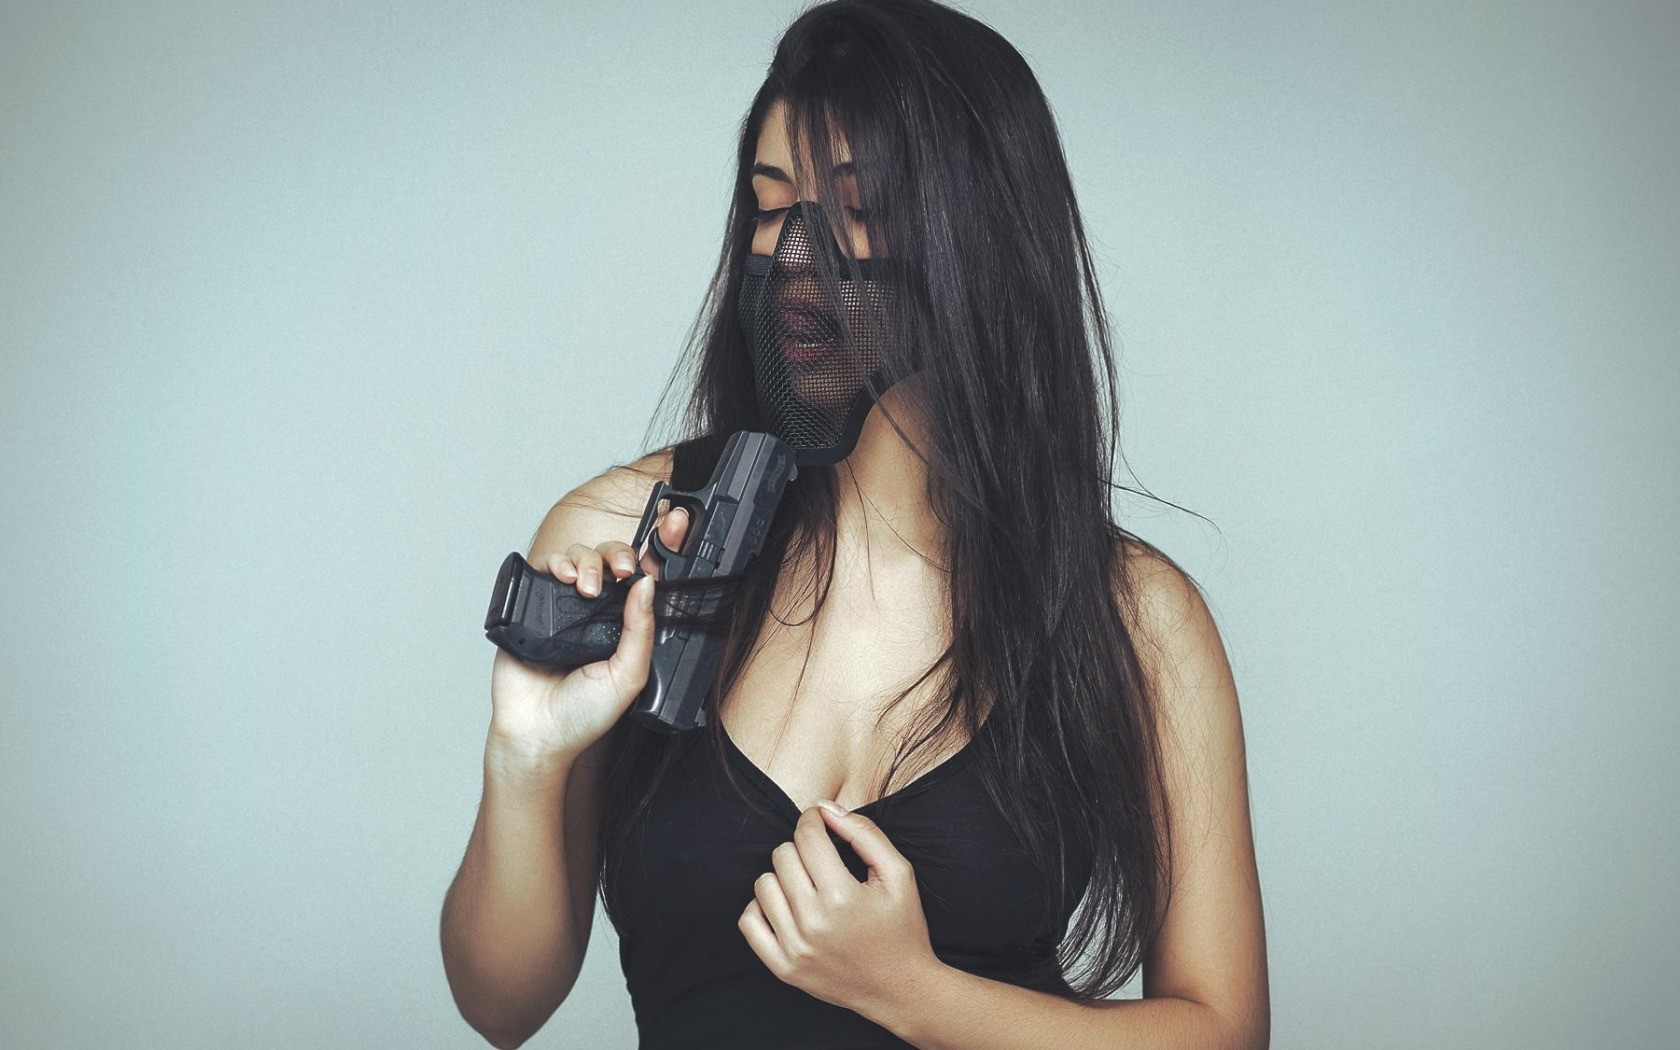gun: (479, 406, 808, 724)
